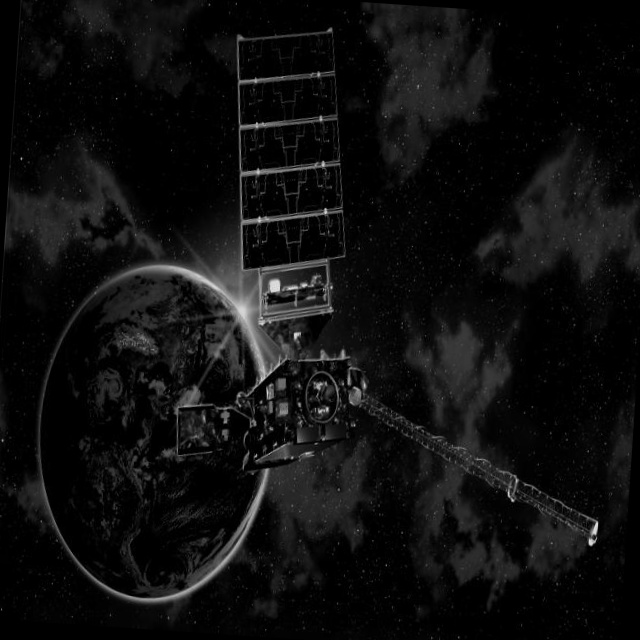satellite: (156, 14, 637, 553)
